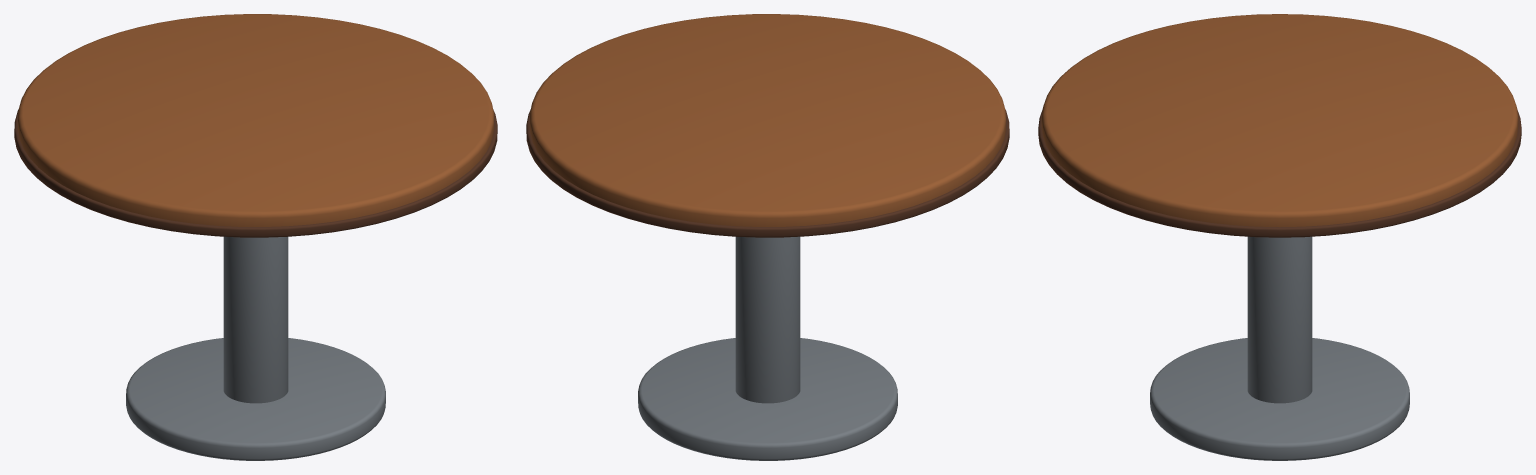
File: round_table.glb
3 renders of one model, left to right at view 1: azimuth 30°, elevation 25°; view 2: azimuth 150°, elevation 25°; view 3: azimuth 270°, elevation 25°, orthographic.
Parts seen in each view (by area): view 1: TableTop, Base, Pedestal, TableTopEdge; view 2: TableTop, Base, Pedestal, TableTopEdge; view 3: TableTop, Base, Pedestal, TableTopEdge.
Part boxes in pixels (left/top/right/bottom): TableTop: left=18, top=14, right=493, bottom=226; Base: left=126, top=338, right=385, bottom=460; Pedestal: left=223, top=236, right=288, bottom=403; TableTopEdge: left=14, top=109, right=497, bottom=237; TableTop: left=530, top=14, right=1005, bottom=226; Base: left=638, top=338, right=897, bottom=460; Pedestal: left=735, top=236, right=800, bottom=403; TableTopEdge: left=526, top=109, right=1009, bottom=237; TableTop: left=1041, top=14, right=1518, bottom=227; Base: left=1150, top=338, right=1409, bottom=460; Pedestal: left=1247, top=236, right=1312, bottom=403; TableTopEdge: left=1038, top=110, right=1521, bottom=237.
Bounding box in the file's own units: 1.12 × 0.76 × 1.12.
